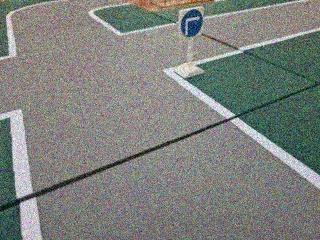right: (178, 6, 206, 41)
